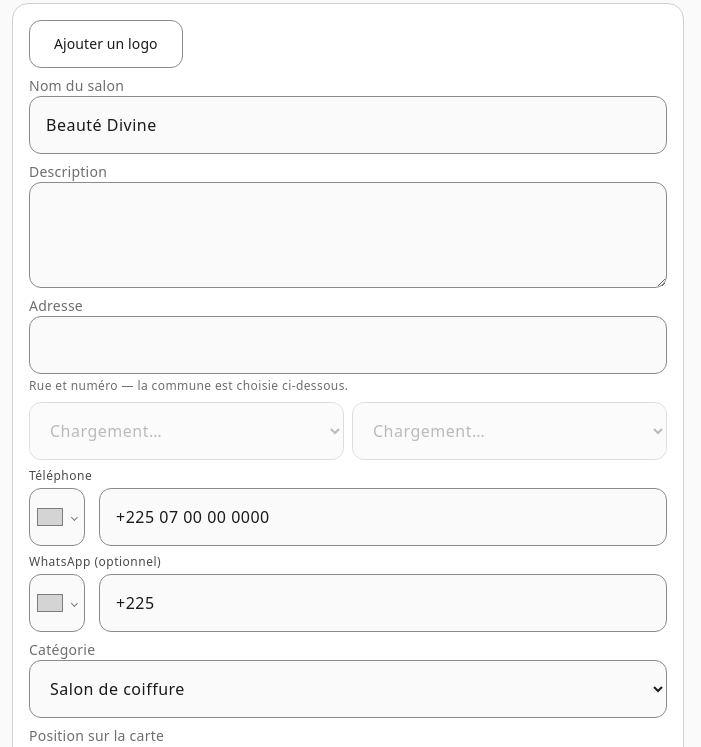
ProfilClient — Téléphone and WhatsApp › WhatsApp is optional but checked once typed, under its own field
Replace the text in the field labelled "WhatsApp (optionnel)" with "+2250505". click: [383, 603]
box: [99,574,667,632]
(page scrolled)
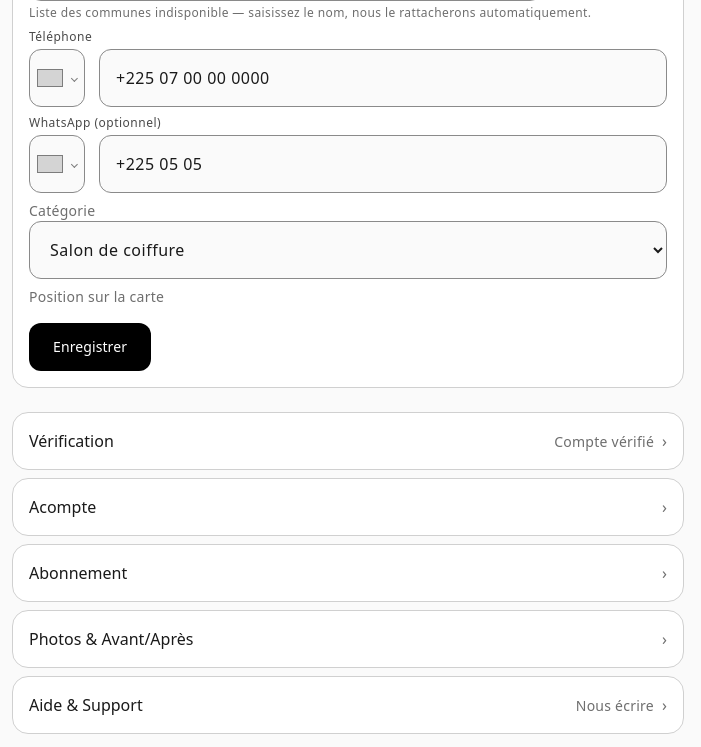
Click the button "Enregistrer". click: [90, 347]
box: [29,323,151,371]
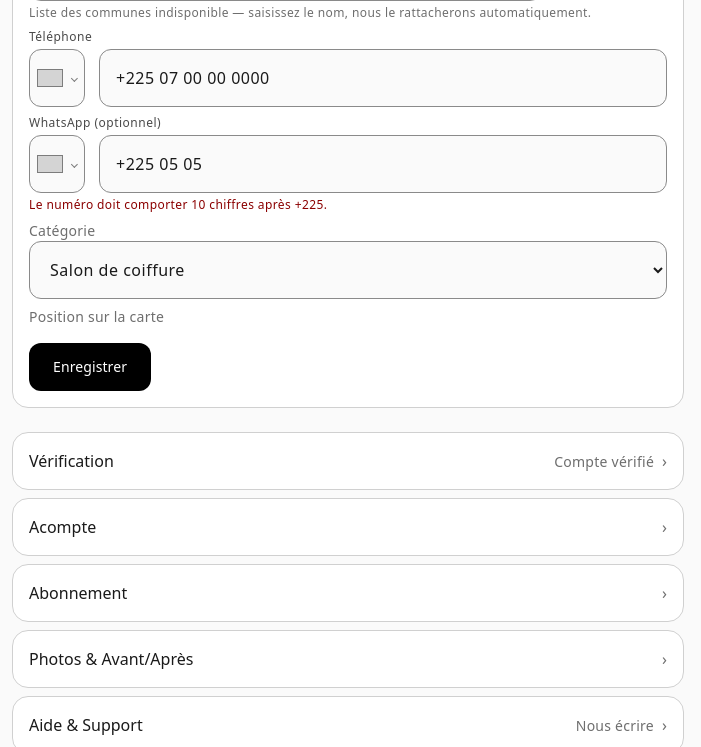
Now the text "Le numéro doit comporter 10 chiffres après +225." is shown, box [29,196,327,213]
